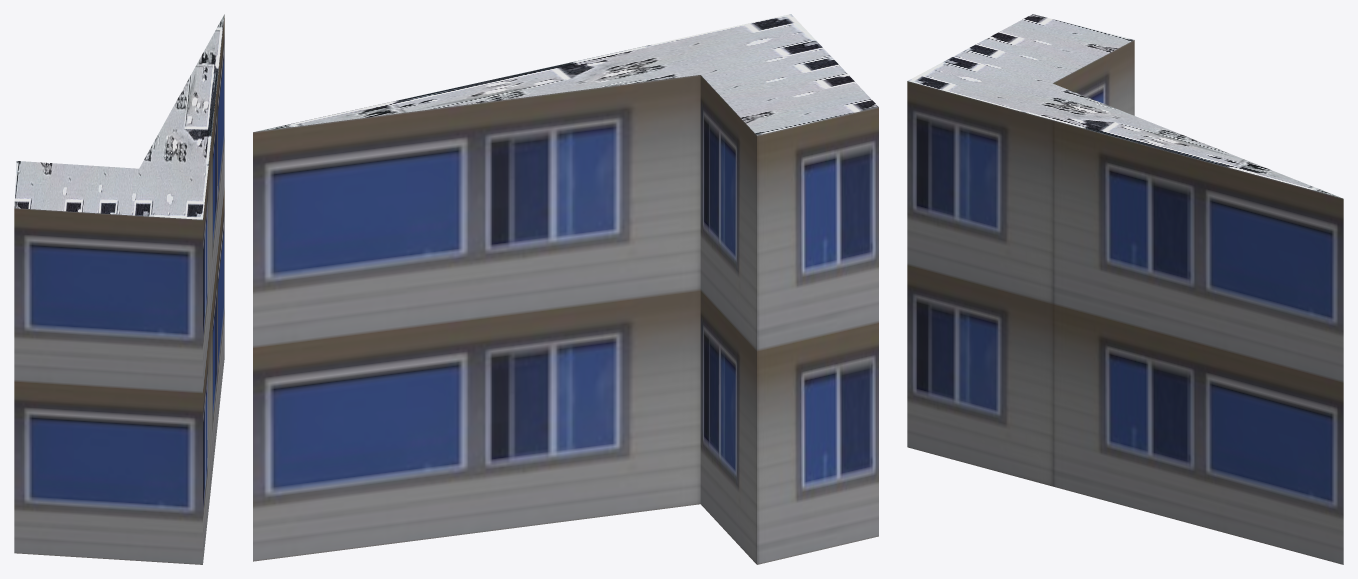
The model's file is ResTex__4414.fbx.
The picture shows the model from 3 angles, left to right: view 1: azimuth 30°, elevation 25°; view 2: azimuth 150°, elevation 25°; view 3: azimuth 270°, elevation 25°; orthographic projection. The views are drawn at different scales.
Visible parts, largest first — view 1: CityEngineMaterial_23_m, CityEngineMaterial_8_m; view 2: CityEngineMaterial_23_m, CityEngineMaterial_8_m; view 3: CityEngineMaterial_23_m, CityEngineMaterial_8_m.
Part boxes in pixels (bbox=[...]): CityEngineMaterial_23_m: bbox=[14, 15, 224, 564]; CityEngineMaterial_8_m: bbox=[14, 14, 224, 219]; CityEngineMaterial_23_m: bbox=[253, 75, 878, 564]; CityEngineMaterial_8_m: bbox=[255, 14, 878, 135]; CityEngineMaterial_23_m: bbox=[907, 40, 1343, 564]; CityEngineMaterial_8_m: bbox=[908, 14, 1340, 197].
Size of the model in its own units: 6.49 by 6 by 6.47.
Materials: 2 (2 with a texture image).
